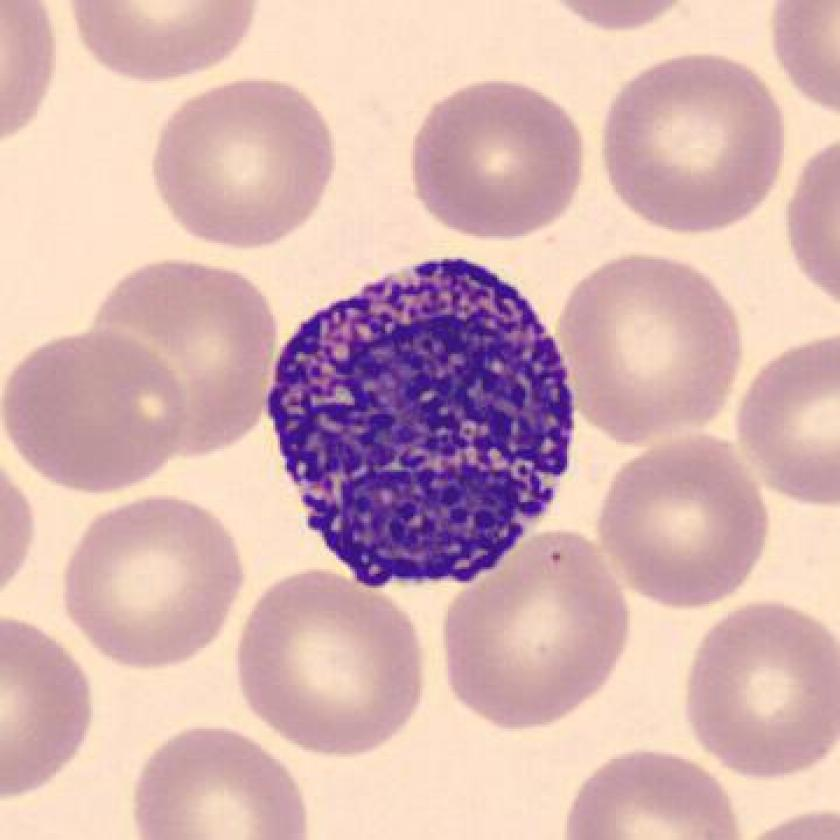basophil: (258, 249, 584, 591)
